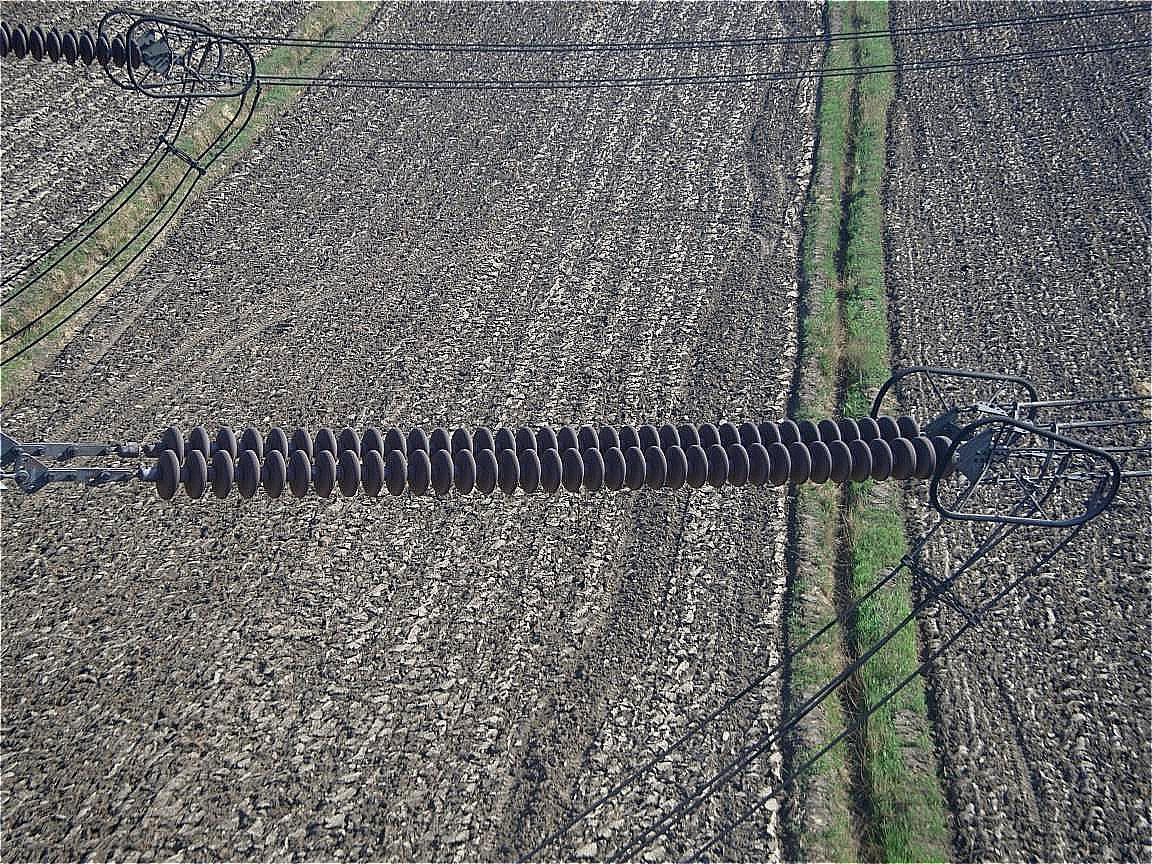insultor1: (110, 403, 964, 516)
